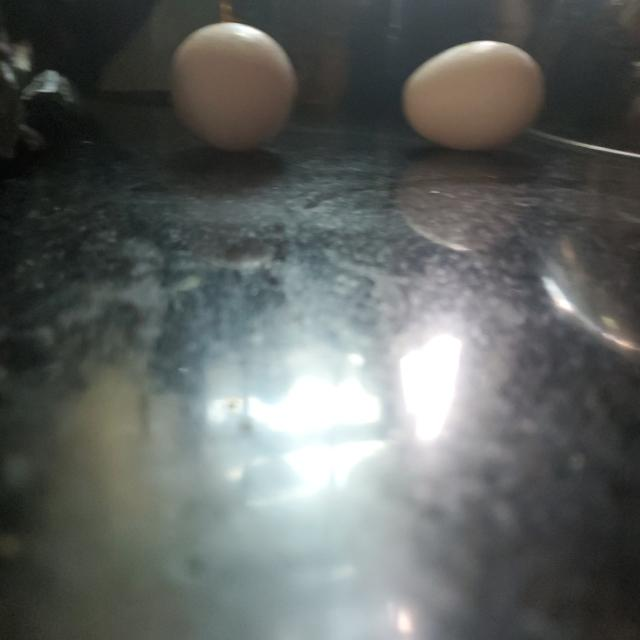egg: (397, 35, 548, 151), (171, 16, 303, 147)
